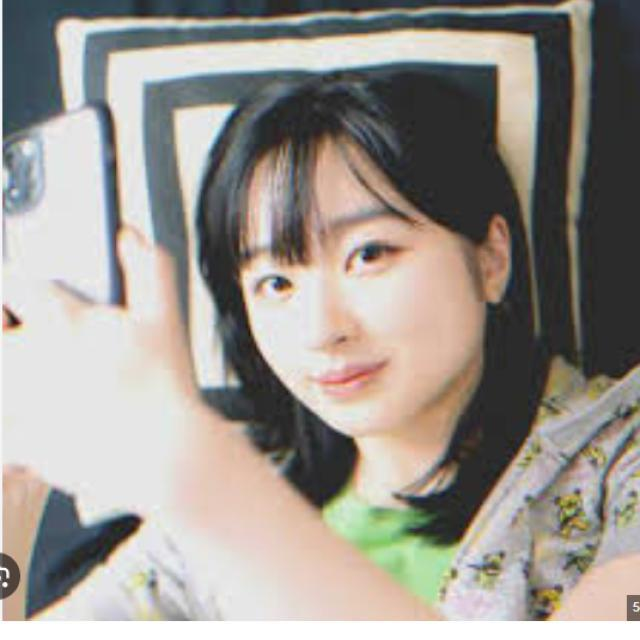face_no_mask: (229, 142, 509, 449)
